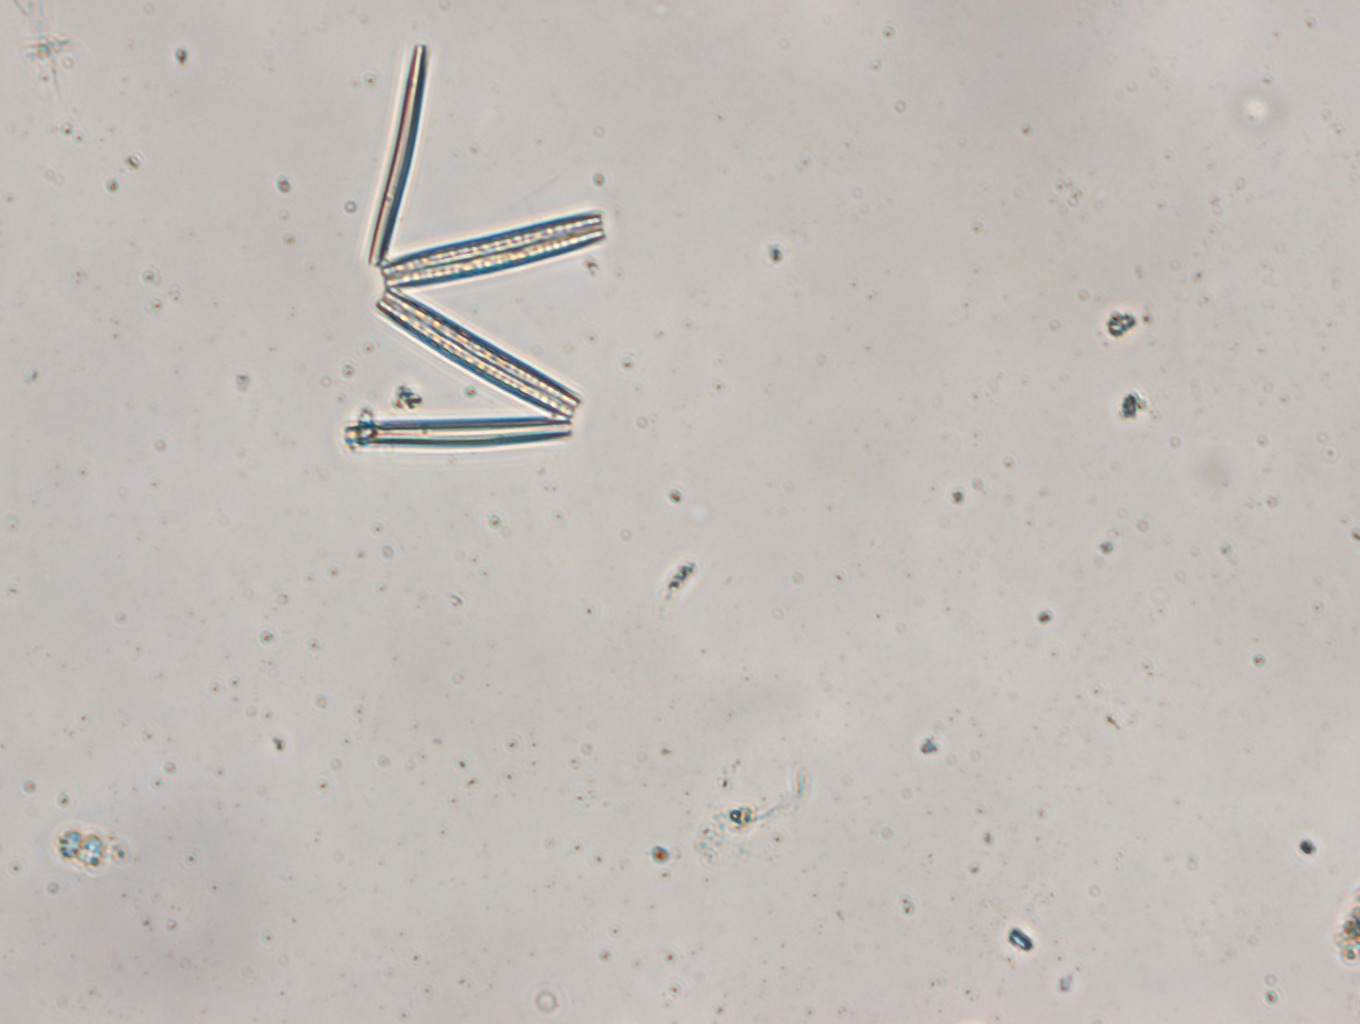thalassionema nitzschioides: (343, 44, 607, 447)
